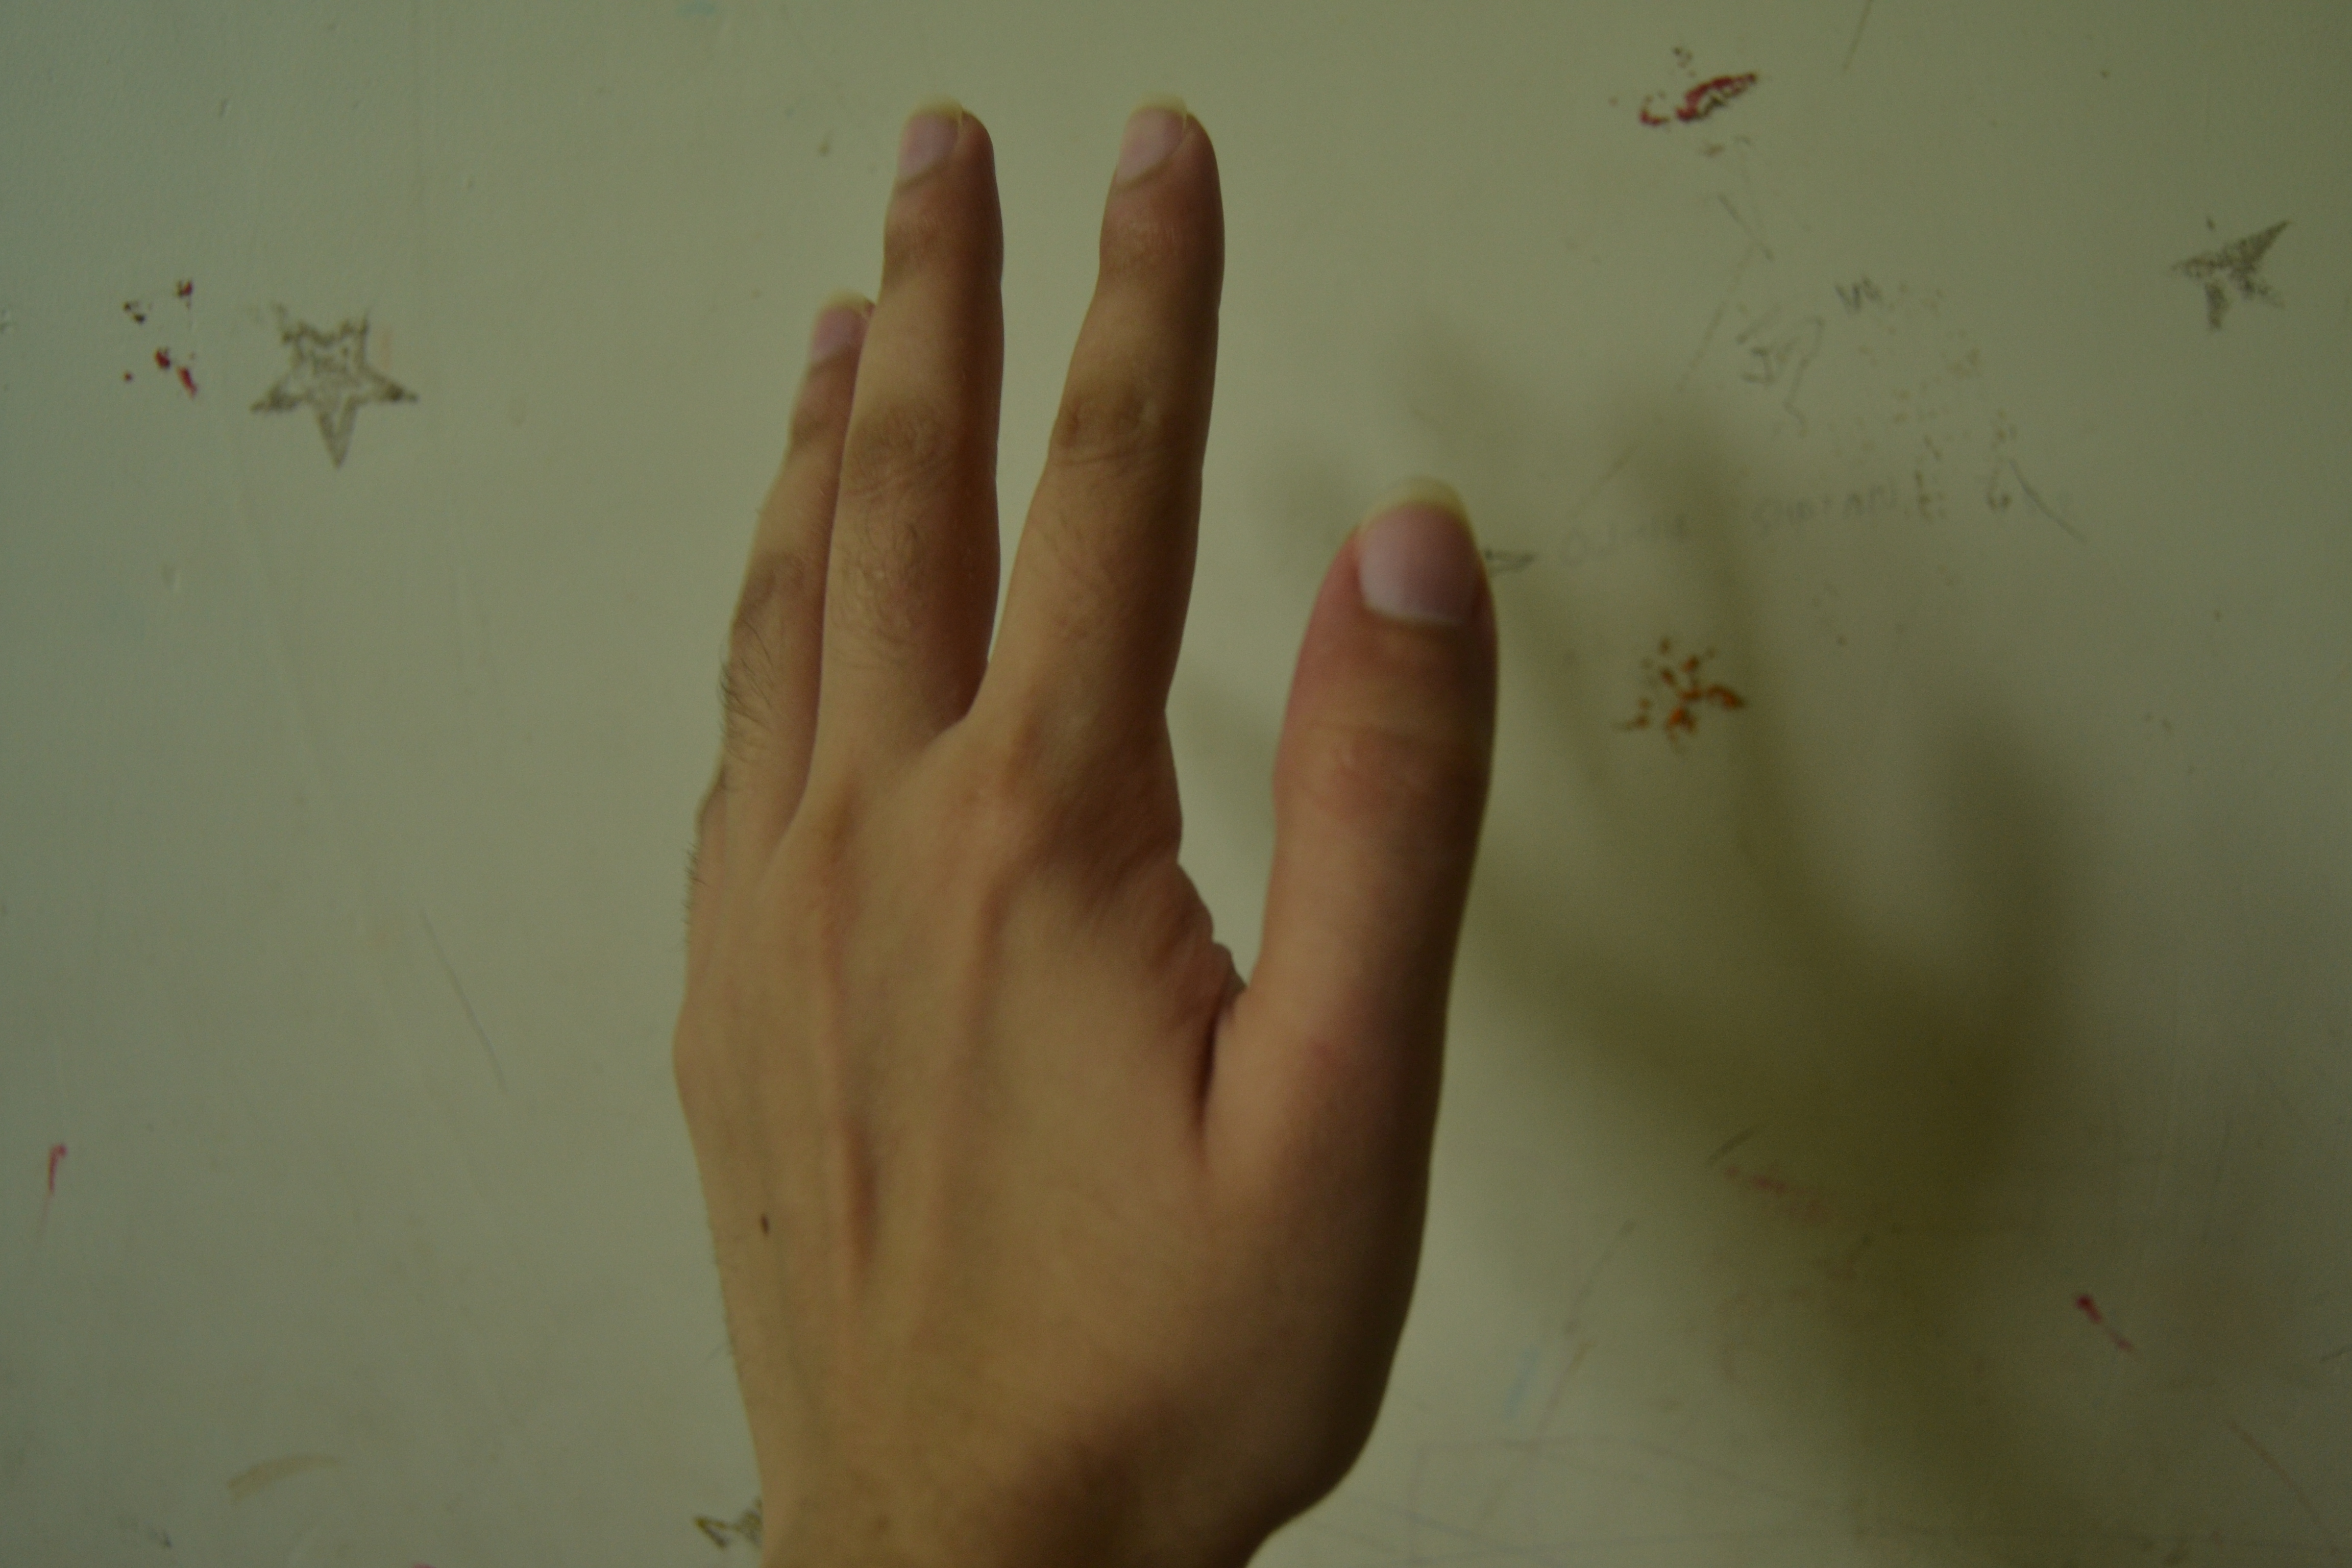move: (675, 84, 1566, 1568)
